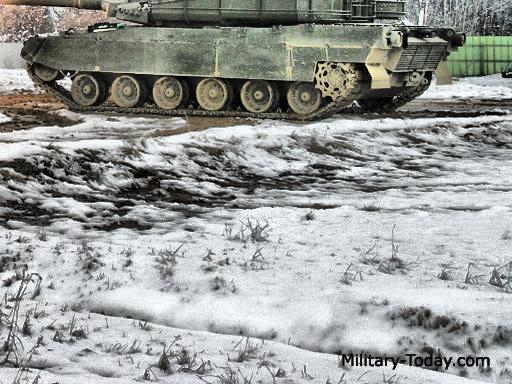tanks: (1, 1, 465, 120)
